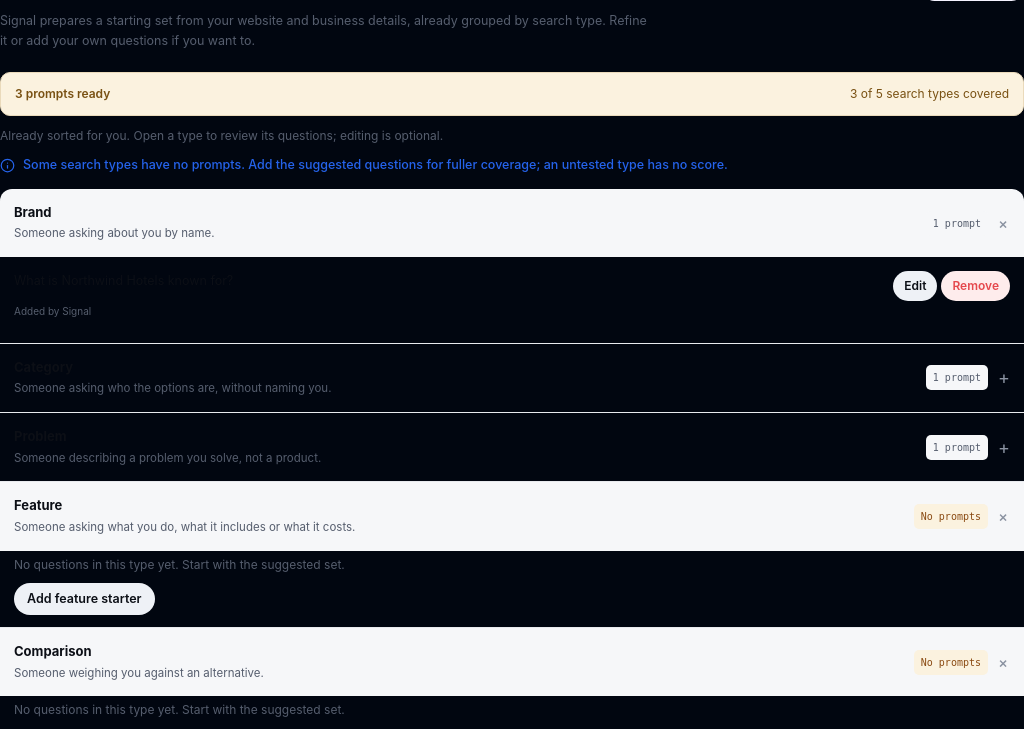
Test: PromptSetup (SIGV2-1194) › never offers a search-type choice anywhere
Note: The editor states the assignment instead of asking for one.
Click the button with aria-label "Edit: What is Northwind Hotels known for?": (915, 286) [893,271,937,301]
(page scrolled)
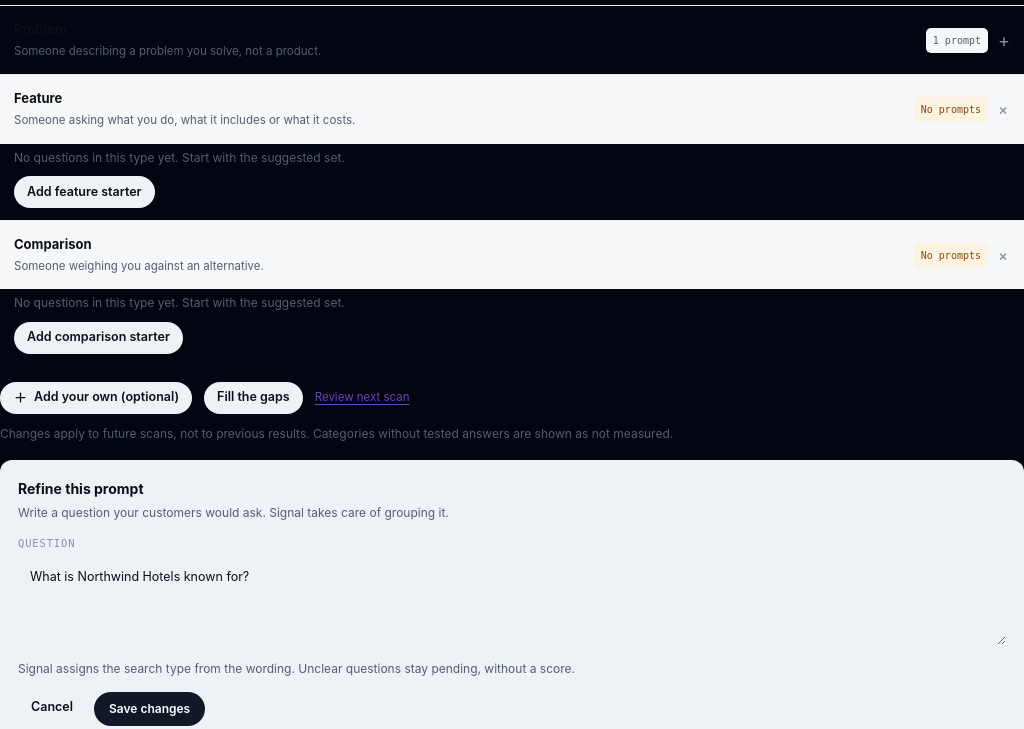
expect the text "Signal assigns the search type" is shown: met, box [18,661,575,676]
